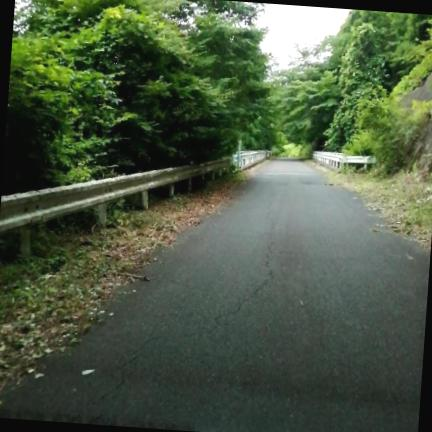Road: (0, 161, 429, 431)
